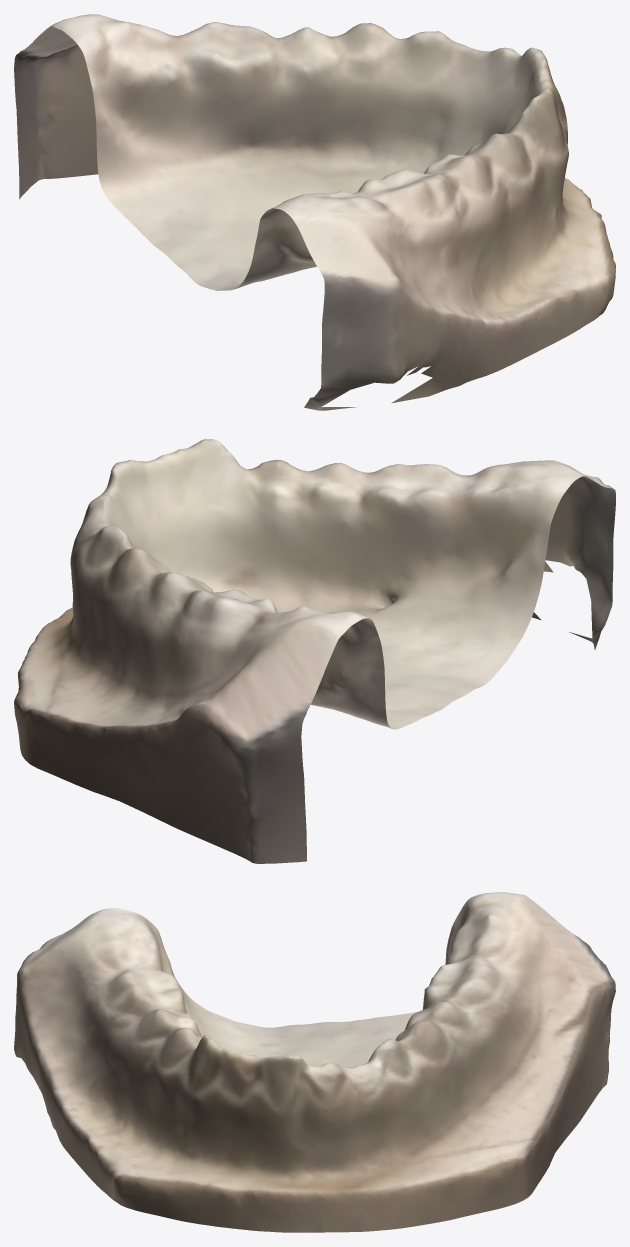
File: M-J-B-Bas-OK.fbx
3 renders of one model, top to bottom at view 1: azimuth 30°, elevation 25°; view 2: azimuth 150°, elevation 25°; view 3: azimuth 270°, elevation 25°, orthographic. The views are drawn at different scales.
Visible parts, largest first — view 1: mainMeshNode; view 2: mainMeshNode; view 3: mainMeshNode.
Boxes of the visible parts, x1=… form: mainMeshNode: x1=14, y1=14, x2=615, y2=410; mainMeshNode: x1=14, y1=439, x2=615, y2=863; mainMeshNode: x1=14, y1=892, x2=615, y2=1232.
Bounding box in the file's own units: 0.0482 × 0.0739 × 0.0242.
Materials: 1 (1 with a texture image).
